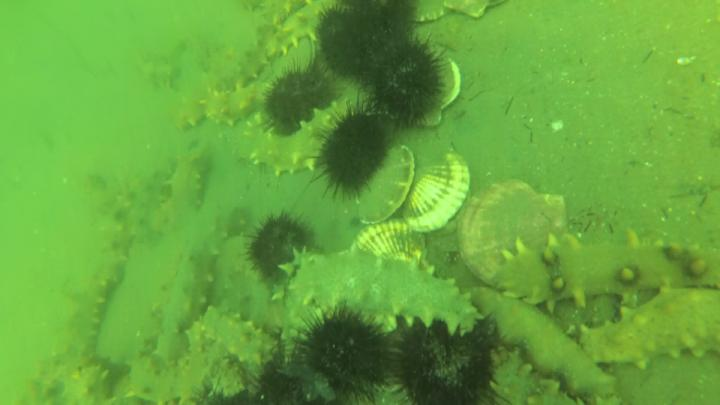echinus: (393, 316, 498, 405), (301, 312, 390, 399), (369, 39, 444, 124), (320, 110, 388, 199), (317, 7, 389, 83), (269, 62, 333, 135), (248, 214, 309, 283), (253, 362, 303, 404)
holothurian: (462, 285, 622, 405), (280, 245, 482, 339), (487, 233, 720, 314), (580, 284, 720, 371), (229, 98, 356, 177), (224, 1, 327, 94), (151, 234, 221, 362), (124, 343, 234, 405), (173, 38, 233, 138), (149, 145, 211, 238), (489, 345, 585, 405), (197, 303, 282, 370), (60, 273, 110, 366), (202, 79, 282, 130), (100, 192, 139, 267), (65, 360, 114, 405), (260, 1, 306, 31)
scallop: (459, 175, 572, 285), (398, 145, 475, 233), (354, 142, 417, 226), (350, 219, 438, 277), (418, 57, 463, 129), (441, 1, 516, 24), (415, 1, 456, 28)
